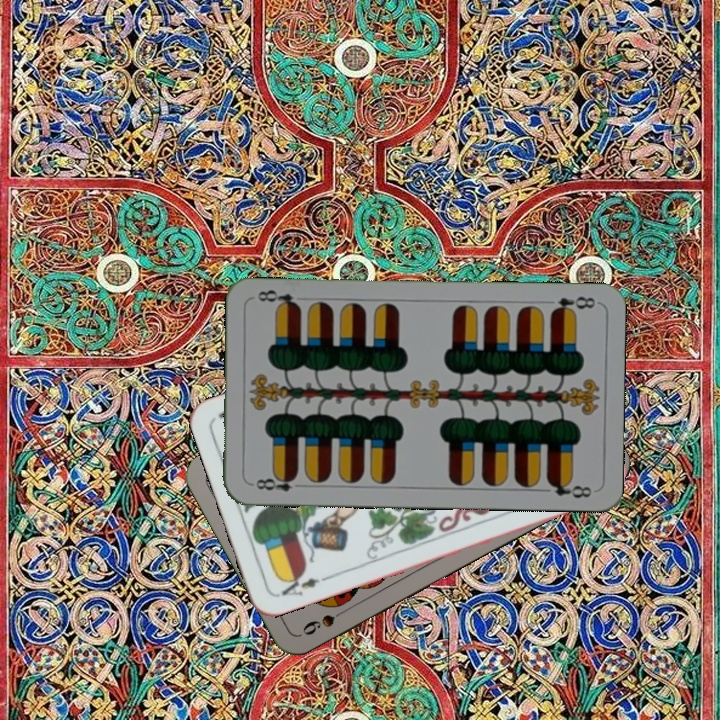E8: (247, 471, 306, 494), (547, 292, 598, 317)
EA: (276, 569, 331, 599)
S9: (298, 604, 352, 638)
